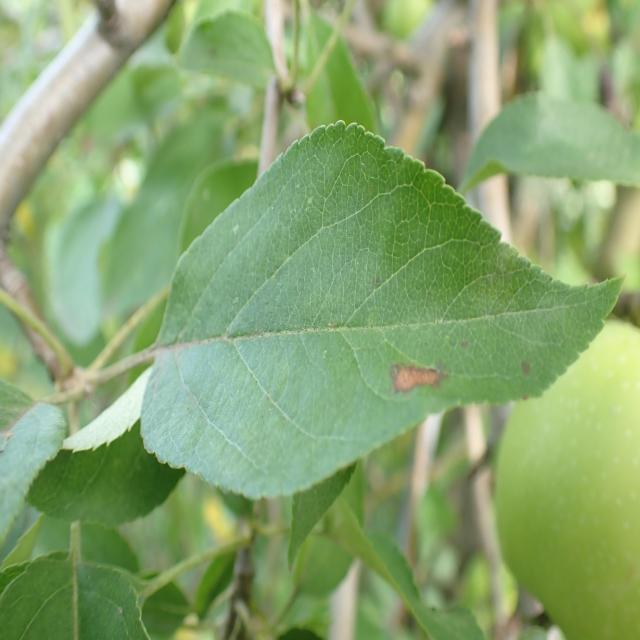Black Rot: (379, 339, 457, 419)
